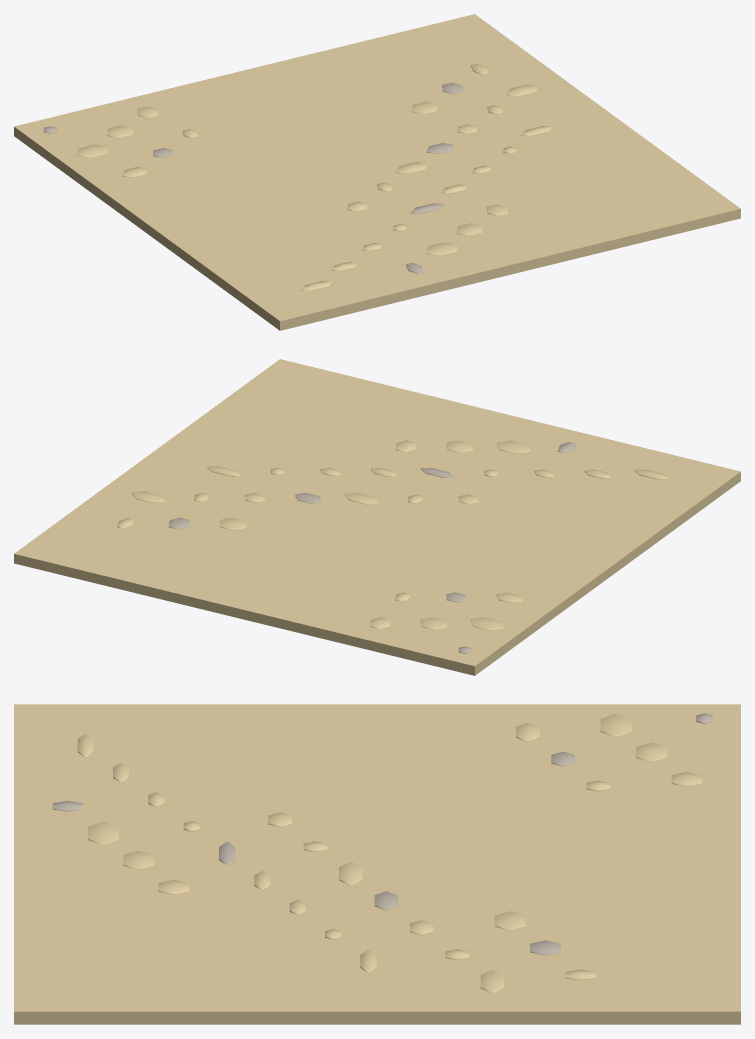
The model's file is desert-ground-modu-31656f6a.glb.
3 views of the same model, one above another, from view 1: azimuth 30°, elevation 25°; view 2: azimuth 150°, elevation 25°; view 3: azimuth 270°, elevation 25° (orthographic). The views are drawn at different scales.
Visible parts, largest first — view 1: desert-ground-module-dark; view 2: desert-ground-module-dark; view 3: desert-ground-module-dark.
Part boxes in pixels (x1,y1,x2,y2): desert-ground-module-dark: (14,14,740,330); desert-ground-module-dark: (14,359,740,675); desert-ground-module-dark: (14,704,740,1024).
Size of the model in its own units: 6 by 0.1553 by 6.
